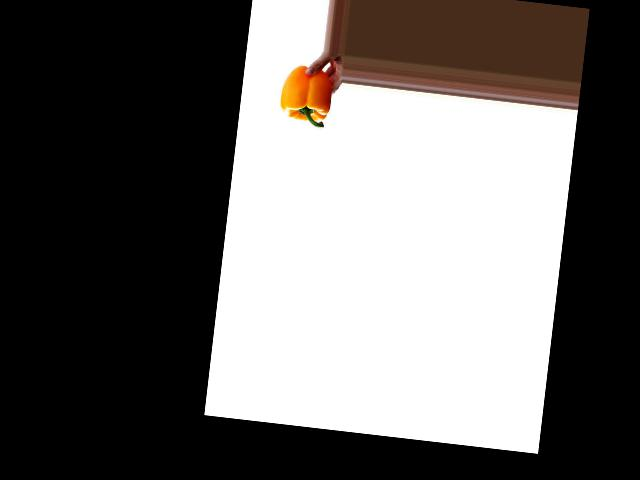bell_pepper: (276, 62, 334, 131)
